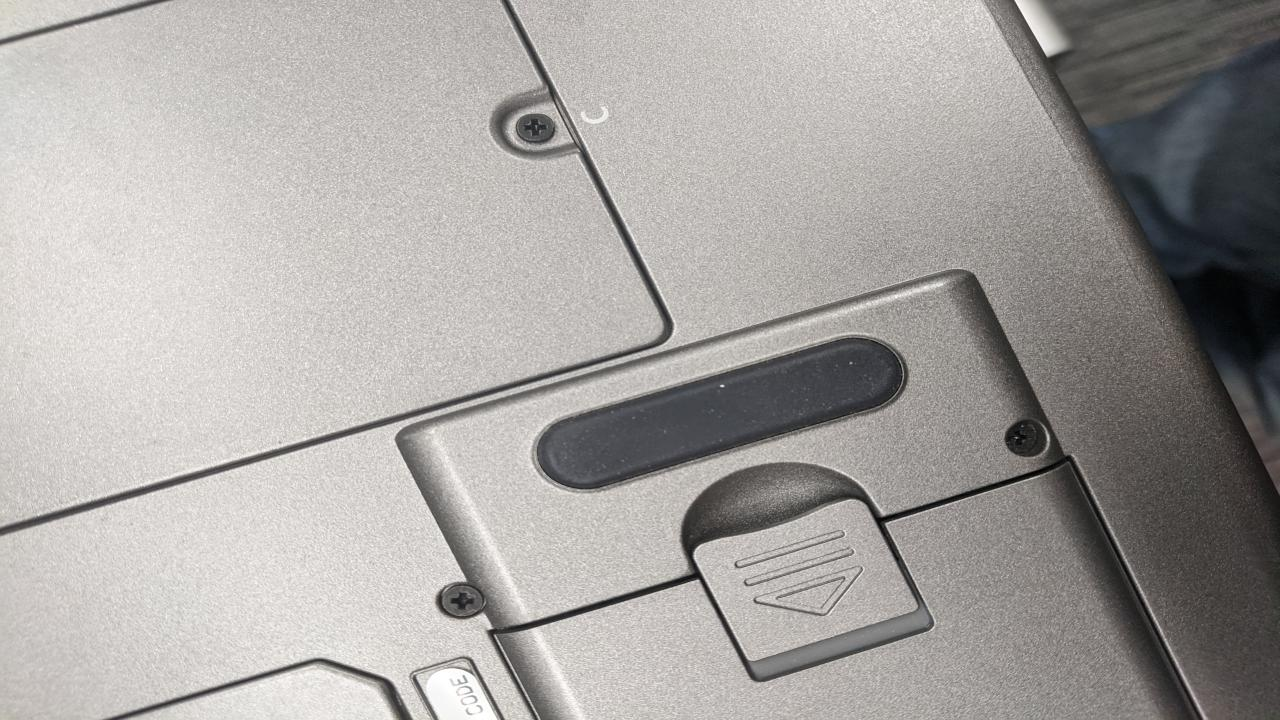CRS: (436, 582, 494, 618), (1005, 415, 1045, 457), (518, 113, 563, 148)
